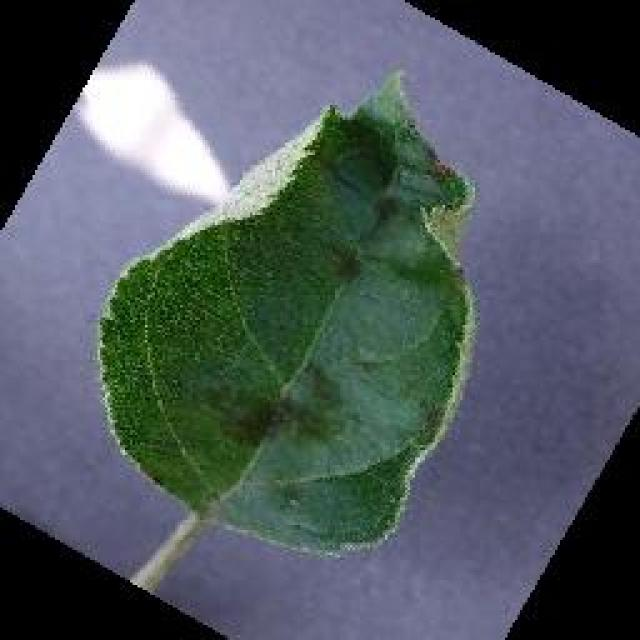apple scab disease: (95, 65, 480, 560)
